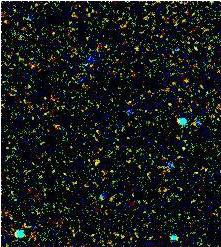star: (83, 150, 113, 180)
